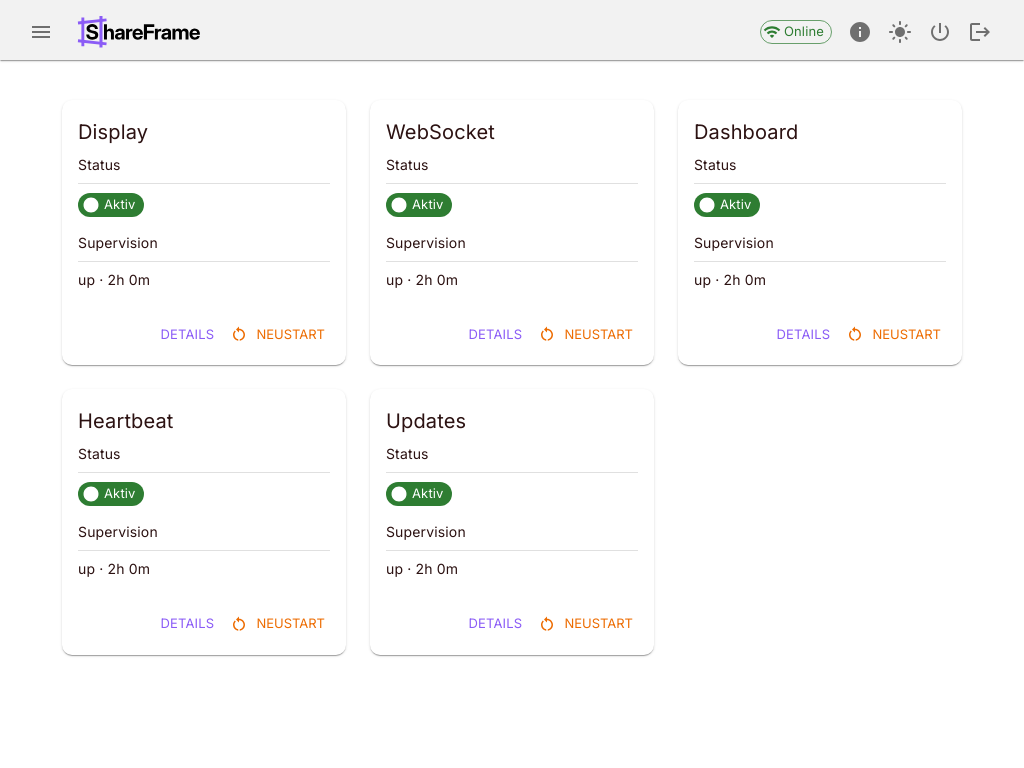
Scenario: services overview › restarts a service after confirmation
Click the button "Neustart" below "Heartbeat". click: click(279, 624)
box: [227,608,330,639]
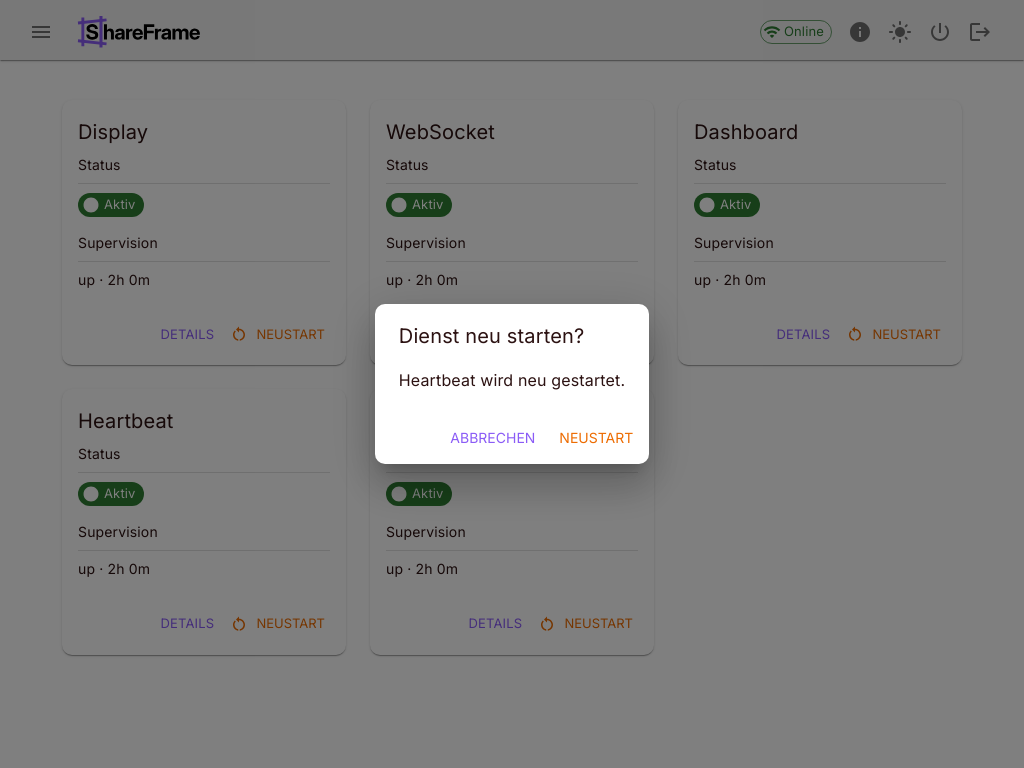
Expected: the text "Heartbeat wird neu gestartet." is shown, [399,368,625,392]
Click the button "Neustart". click: click(596, 438)
box: [551,420,641,456]
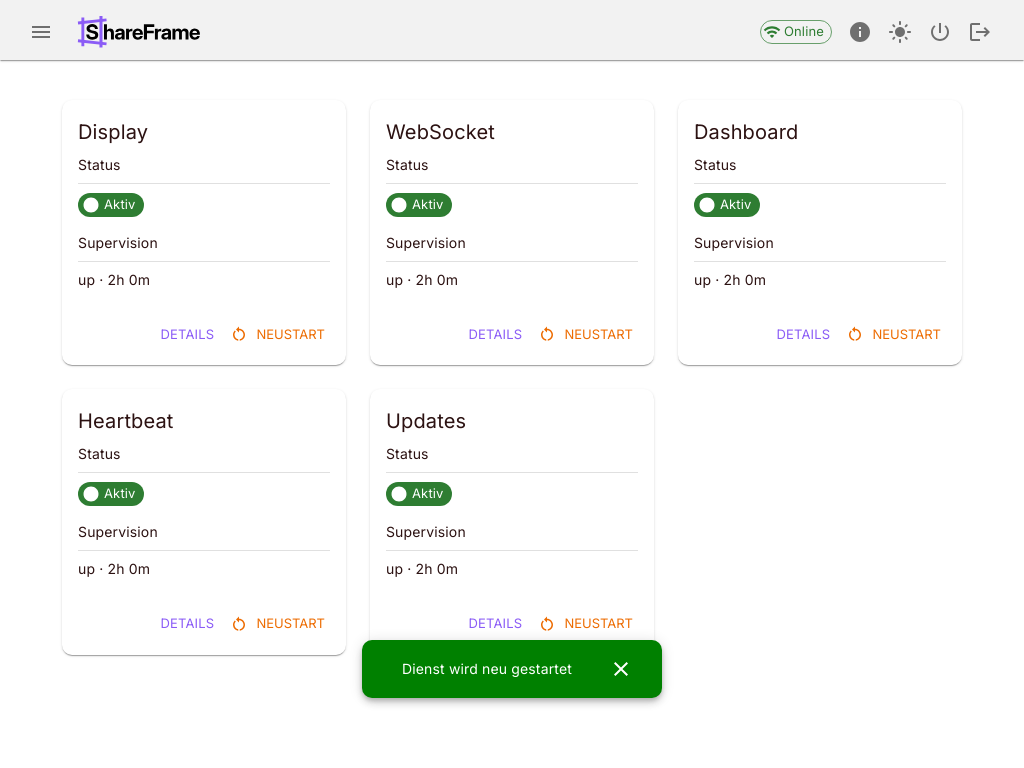
Expected: the heading "Dienst wird neu gestartet" is shown, [402,658,572,680]
